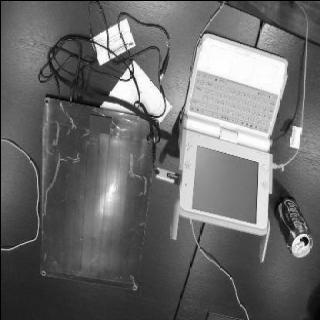alumunium_can: (272, 196, 312, 256)
